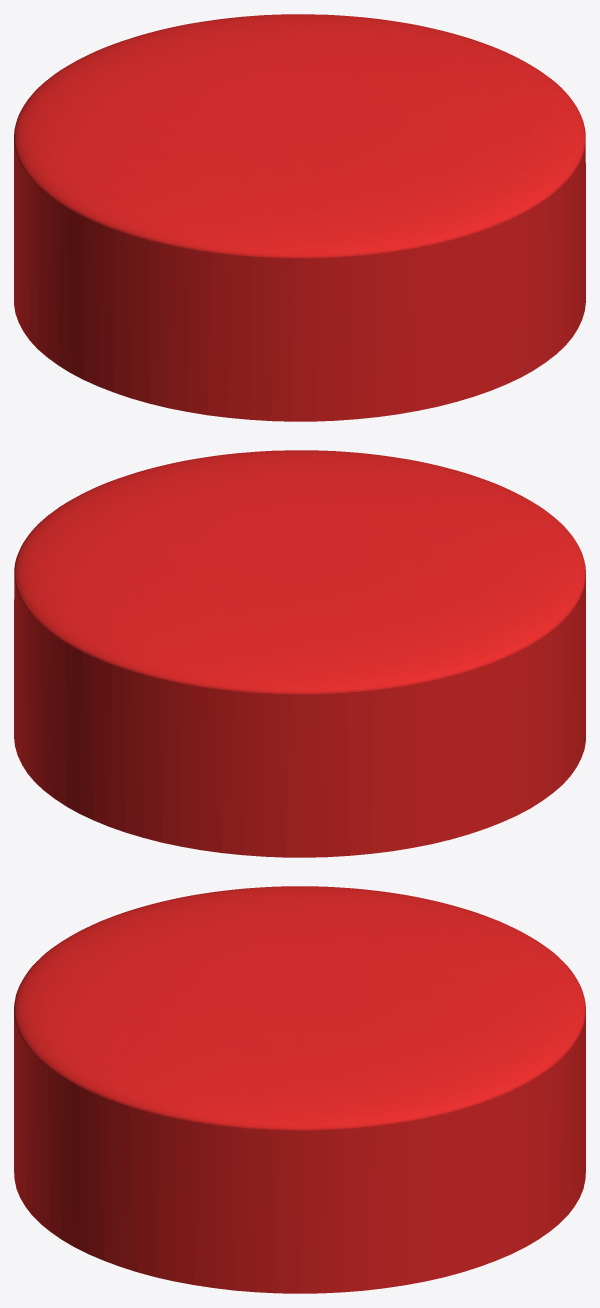
File: bouchon_produit_07.glb
3 renders of one model, top to bottom at view 1: azimuth 30°, elevation 25°; view 2: azimuth 150°, elevation 25°; view 3: azimuth 270°, elevation 25°, orthographic.
Visible parts, largest first — view 1: bouteille prototype V3 bouchon; view 2: bouteille prototype V3 bouchon; view 3: bouteille prototype V3 bouchon.
Part boxes in pixels (<box>): bouteille prototype V3 bouchon: <box>14,14,585,421</box>; bouteille prototype V3 bouchon: <box>14,450,585,857</box>; bouteille prototype V3 bouchon: <box>14,886,585,1293</box>.
Size of the model in its own units: 69.58 by 24.85 by 69.58.
